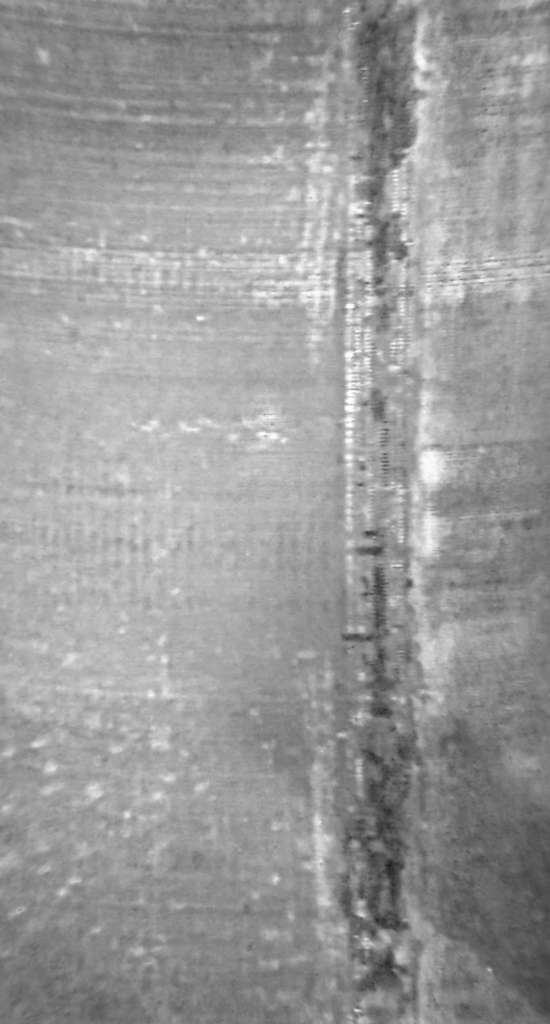splice: (338, 1, 434, 1024)
